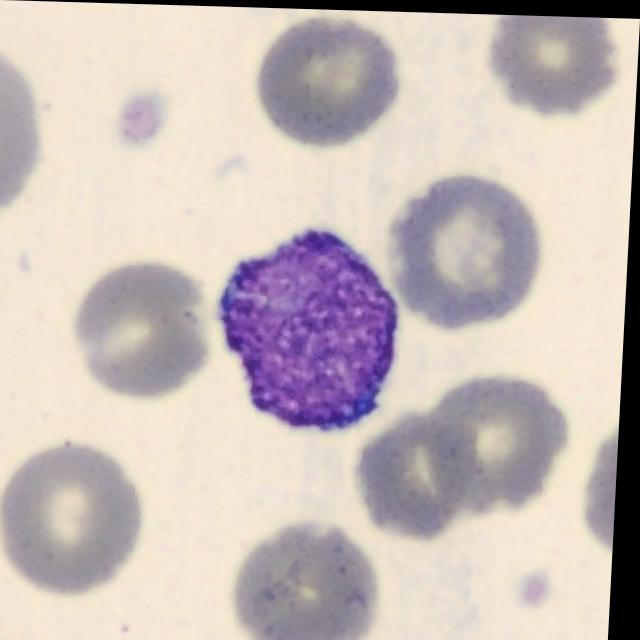Linfocito: (222, 226, 404, 425)
